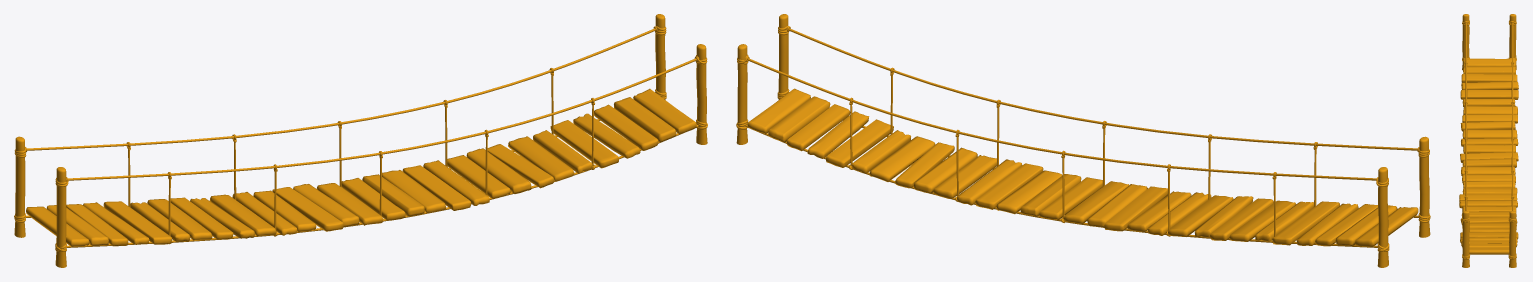
The model's file is Bridge.fbx.
3 views of the same model, side by side, from view 1: azimuth 30°, elevation 25°; view 2: azimuth 150°, elevation 25°; view 3: azimuth 270°, elevation 25° (orthographic). The views are drawn at different scales.
Parts seen in each view (by area): view 1: Object_4; view 2: Object_4; view 3: Object_4.
Boxes of the visible parts, left/top/right/bottom form: Object_4: left=14, top=14, right=707, bottom=267; Object_4: left=736, top=14, right=1430, bottom=267; Object_4: left=1459, top=14, right=1518, bottom=267.
Bounding box in the file's own units: 2031 × 409 × 283.
